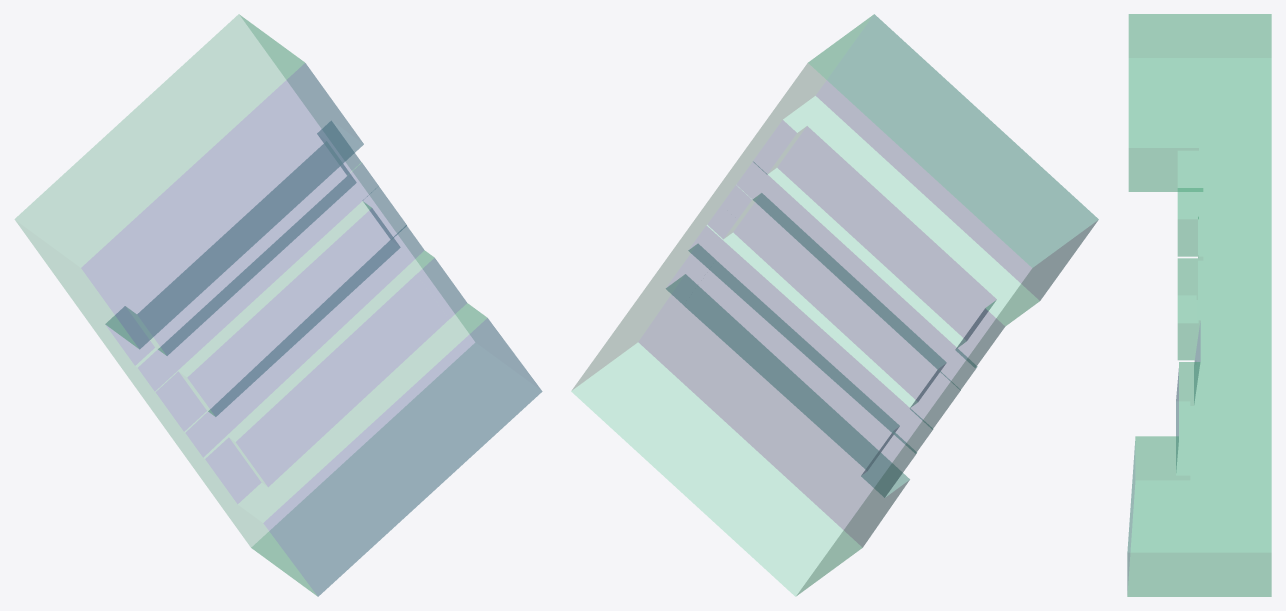
Rendered from exportfromobj_no_cam.dae.
The picture shows the model from 3 angles, left to right: view 1: azimuth 30°, elevation 25°; view 2: azimuth 150°, elevation 25°; view 3: azimuth 270°, elevation 25°; orthographic projection. The views are drawn at different scales.
Visible parts, largest first — view 1: Mesh; view 2: Mesh; view 3: Mesh.
Boxes of the visible parts, <box> form: Mesh: <box>15,14,542,596</box>; Mesh: <box>571,14,1098,596</box>; Mesh: <box>1127,14,1271,596</box>.
Size of the model in its own units: 32.15 by 8.11 by 35.77.
